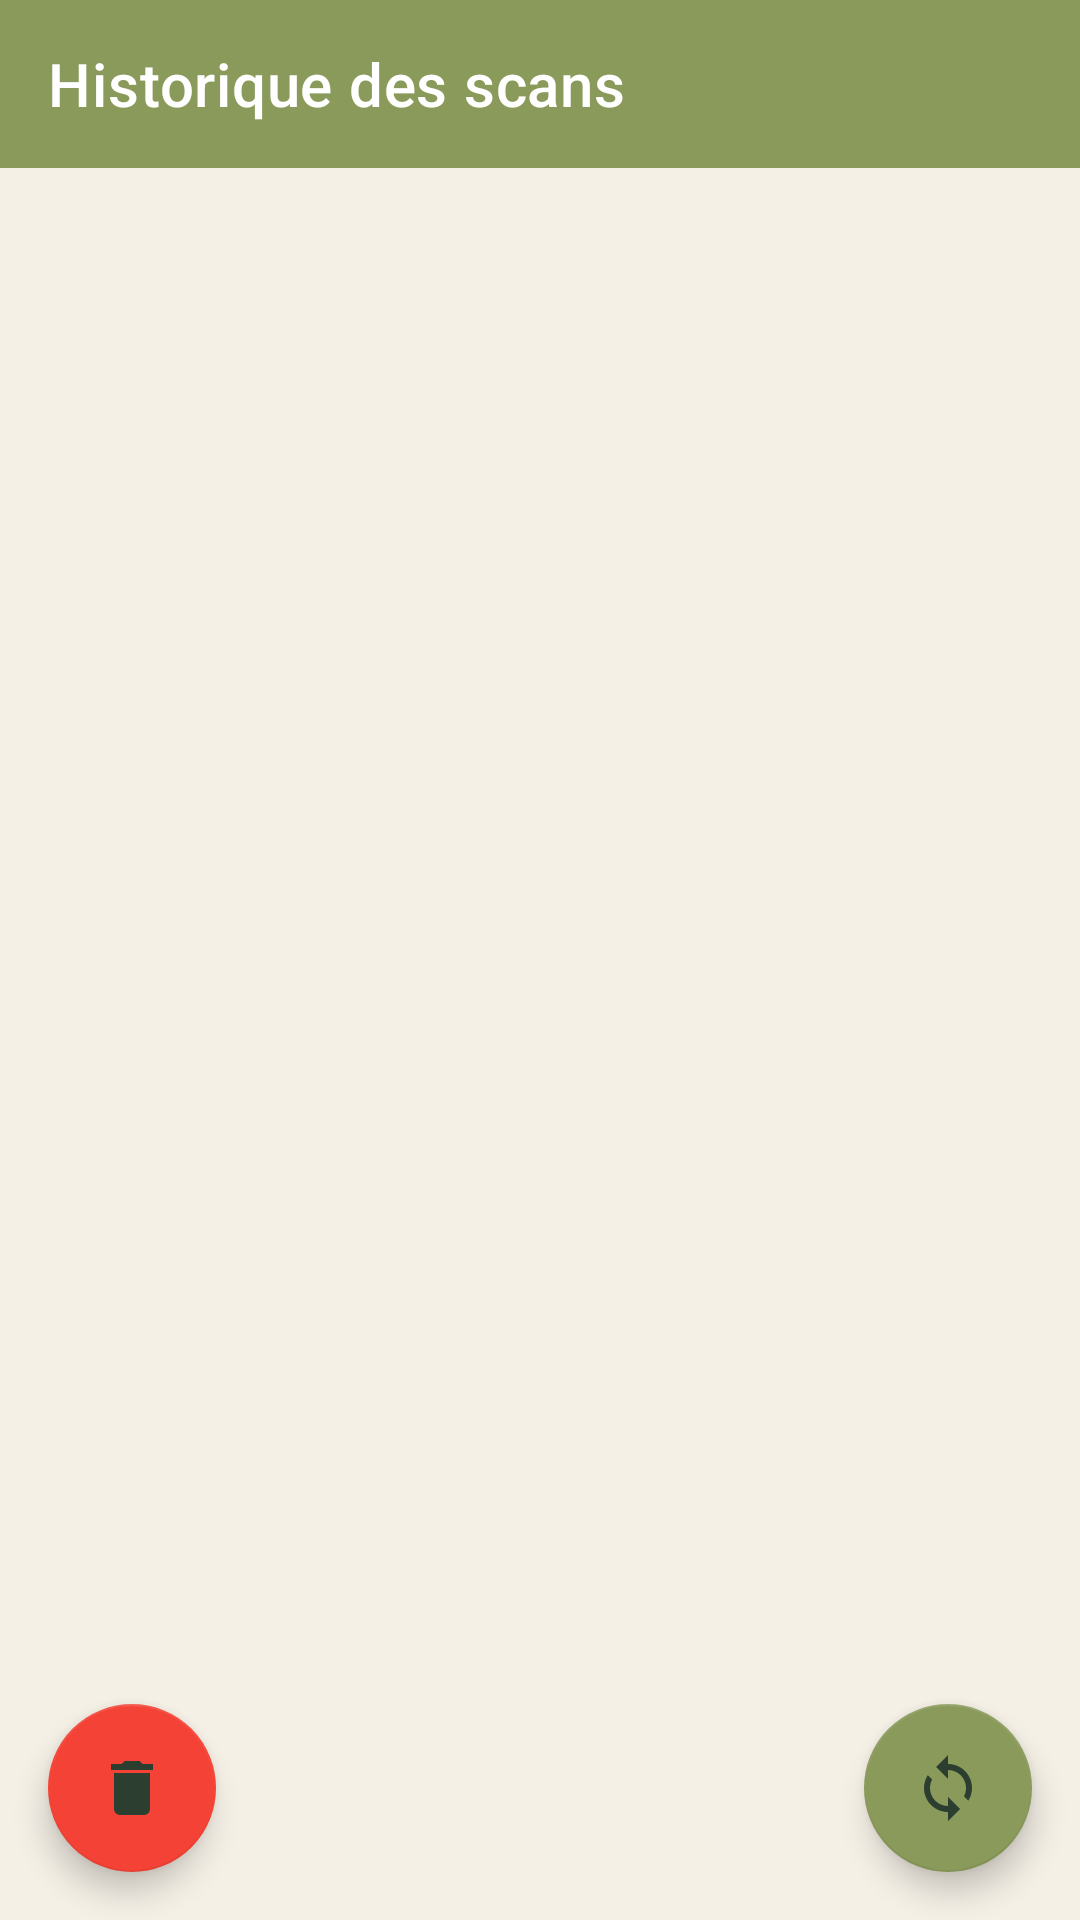

Icons on this 1080px x 1920px Android screen, each with the point to tap as (x,y):
delete: (132,1788)
sync: (948,1788)
